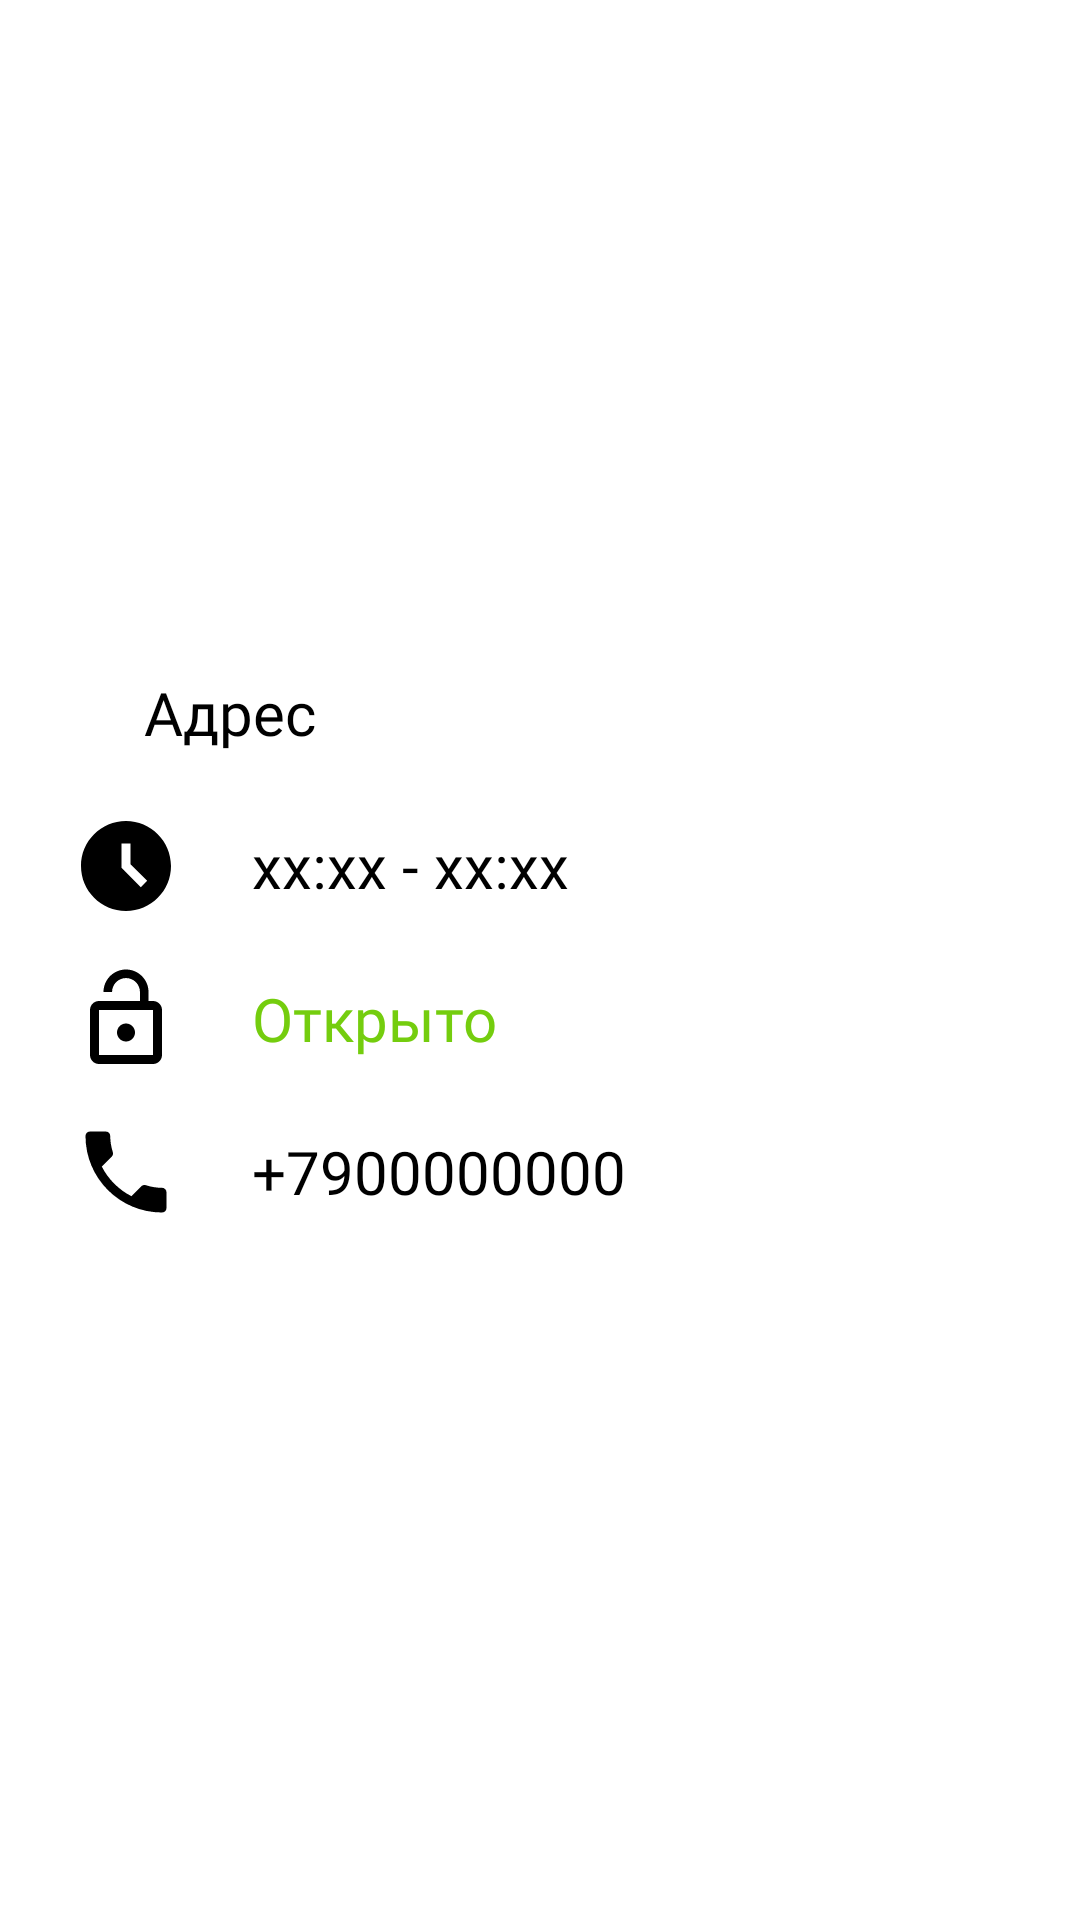

Screen size 1080×1920. Icon name, then its box in pixels as region(x1, y1, x2, y2):
hours: region(81, 821, 171, 911)
open: region(90, 969, 162, 1064)
phone: region(85, 1131, 167, 1213)
